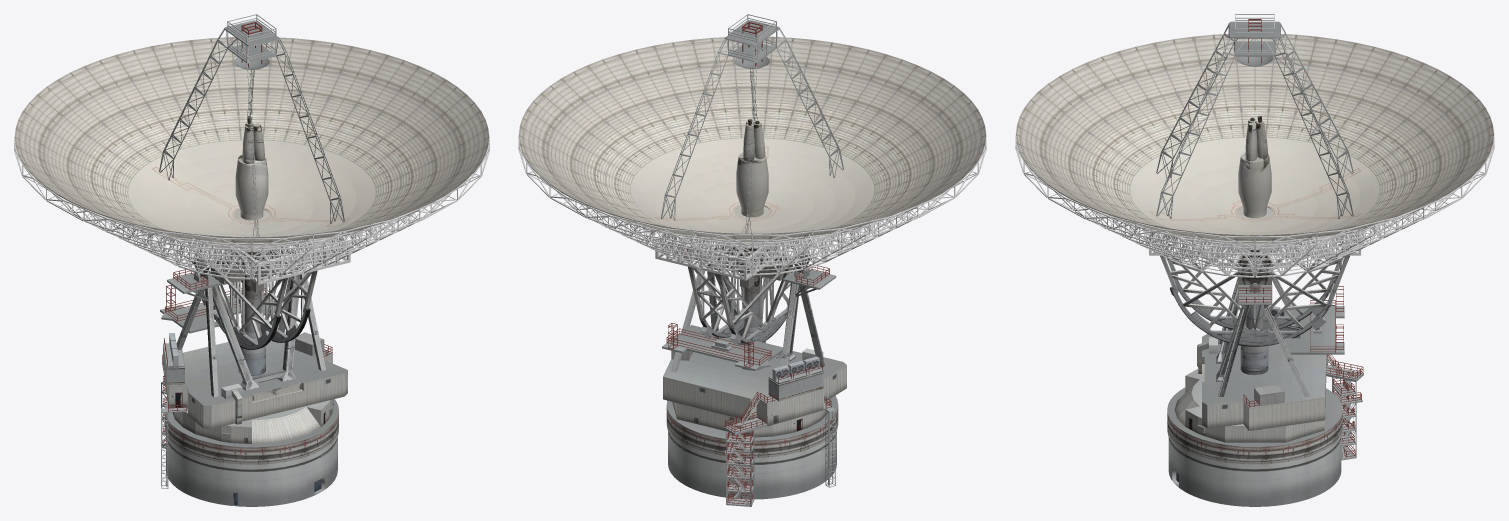
The model's file is deep-space-network-70-meter.glb.
3 views of the same model, side by side, from view 1: azimuth 30°, elevation 25°; view 2: azimuth 150°, elevation 25°; view 3: azimuth 270°, elevation 25° (orthographic). The views are drawn at different scales.
Parts seen in each view (by area): view 1: dish, Cylinder.004, dish.002, base, truss_dish, quad, truss_pendulum, collector, truss_box, rails; view 2: dish, Cylinder.004, dish.002, base, truss_dish, truss_pendulum, quad, rails, collector, landing, truss_box; view 3: dish, Cylinder.004, dish.002, base, truss_dish, truss_pendulum, quad, collector, rails, landing, truss_box.
Part boxes in pixels (x1,y1,x2,y2): dish: [14, 37, 489, 245]; Cylinder.004: [160, 243, 347, 488]; dish.002: [128, 140, 375, 237]; base: [165, 399, 338, 506]; truss_dish: [14, 112, 489, 279]; quad: [159, 14, 344, 236]; truss_pendulum: [190, 245, 317, 349]; collector: [234, 117, 269, 221]; truss_box: [208, 237, 350, 284]; rails: [162, 242, 333, 445]; dish: [519, 36, 985, 242]; Cylinder.004: [662, 239, 846, 487]; dish.002: [630, 138, 874, 233]; base: [666, 395, 838, 499]; truss_dish: [518, 109, 986, 275]; truss_pendulum: [688, 241, 812, 344]; quad: [661, 14, 843, 233]; rails: [666, 249, 831, 504]; collector: [735, 119, 769, 218]; landing: [724, 397, 767, 506]; truss_box: [655, 233, 795, 280]; dish: [1016, 34, 1493, 243]; Cylinder.004: [1174, 270, 1344, 442]; dish.002: [1130, 137, 1379, 235]; base: [1167, 387, 1342, 506]; truss_dish: [1015, 109, 1494, 277]; truss_pendulum: [1155, 237, 1354, 346]; quad: [1156, 14, 1353, 218]; collector: [1237, 116, 1272, 219]; rails: [1238, 286, 1363, 458]; landing: [1326, 356, 1363, 460]; truss_box: [1148, 231, 1361, 255].
Size of the model in its own units: 70.07 by 72.93 by 70.07.
Materials: 3 (2 with a texture image).
